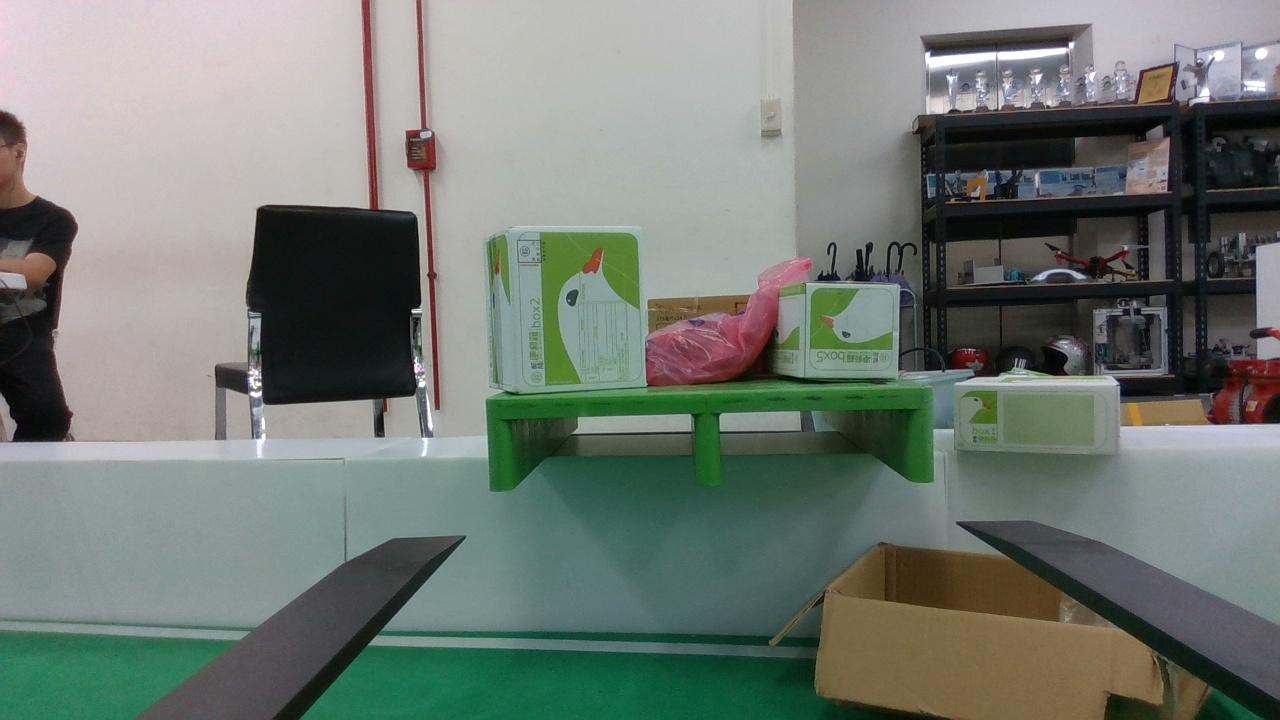Pallet: (486, 383, 933, 493)
